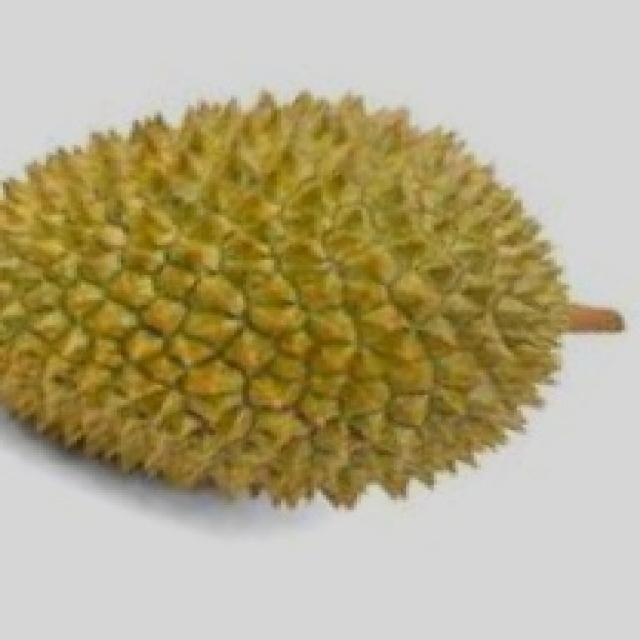fruit: (264, 148, 630, 558), (0, 210, 360, 560)
